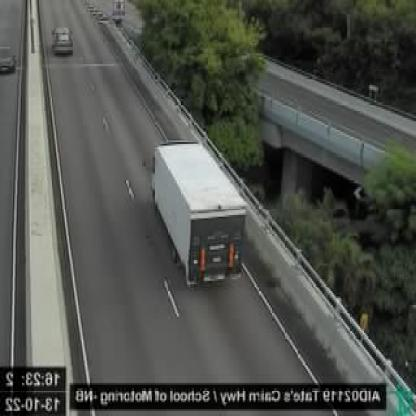Car: (54, 24, 72, 53), (0, 44, 15, 73)
Truck: (152, 139, 247, 285)
